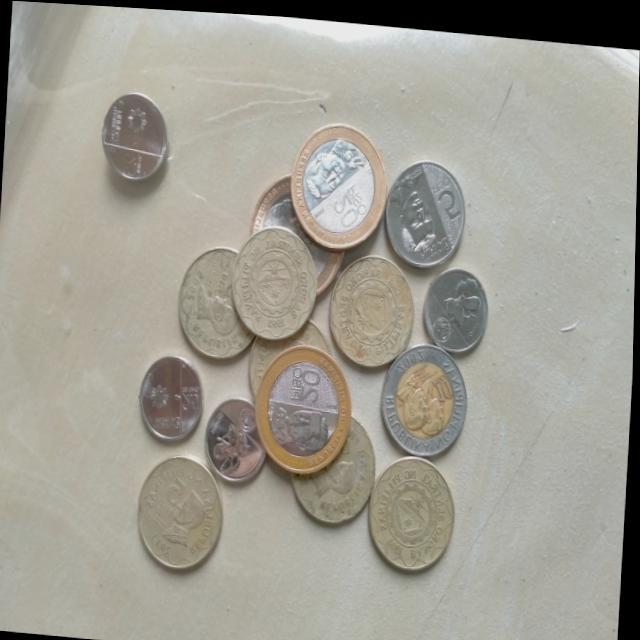10_Old_Front: (382, 331, 470, 449)
5_New_Front: (386, 154, 465, 265)
5_Old_Back: (377, 461, 451, 558)
